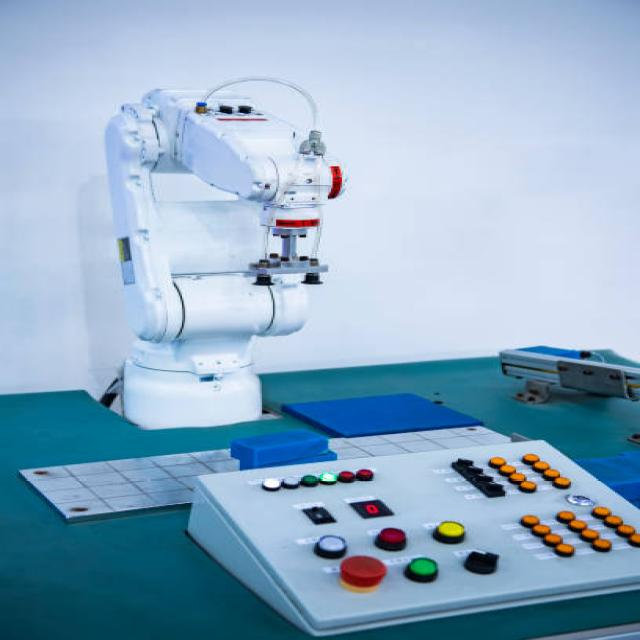Robotic-arm: (74, 66, 372, 446)
